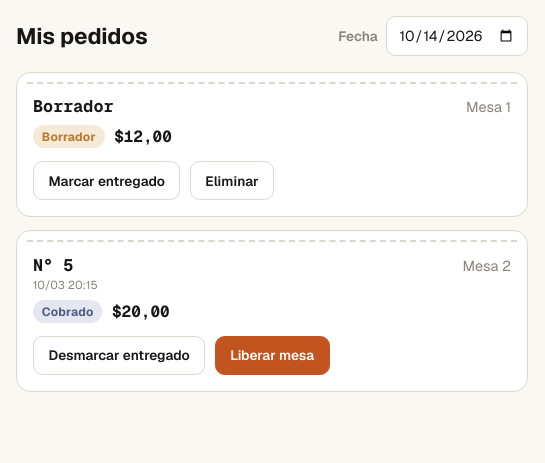
MyOrdersList (T67, RF-8/10) › shows the error when deleting a draft fails
Expected: the text "Mesa 1" is shown, [466, 98, 511, 116]
Click the button "Eliminar" at (232, 181), box [190, 161, 274, 200]
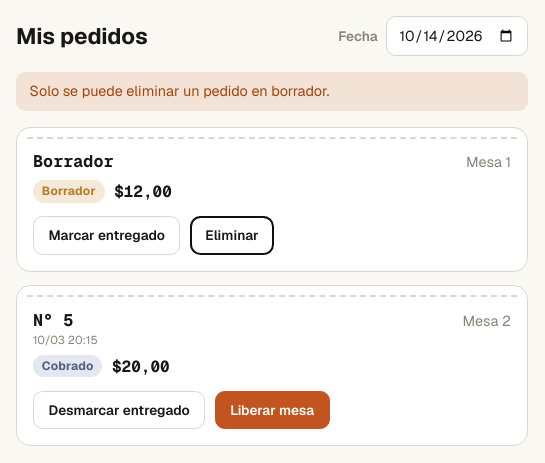
Expected: the text "Solo se puede eliminar un pedido en borrador." is shown, [16, 72, 528, 111]
